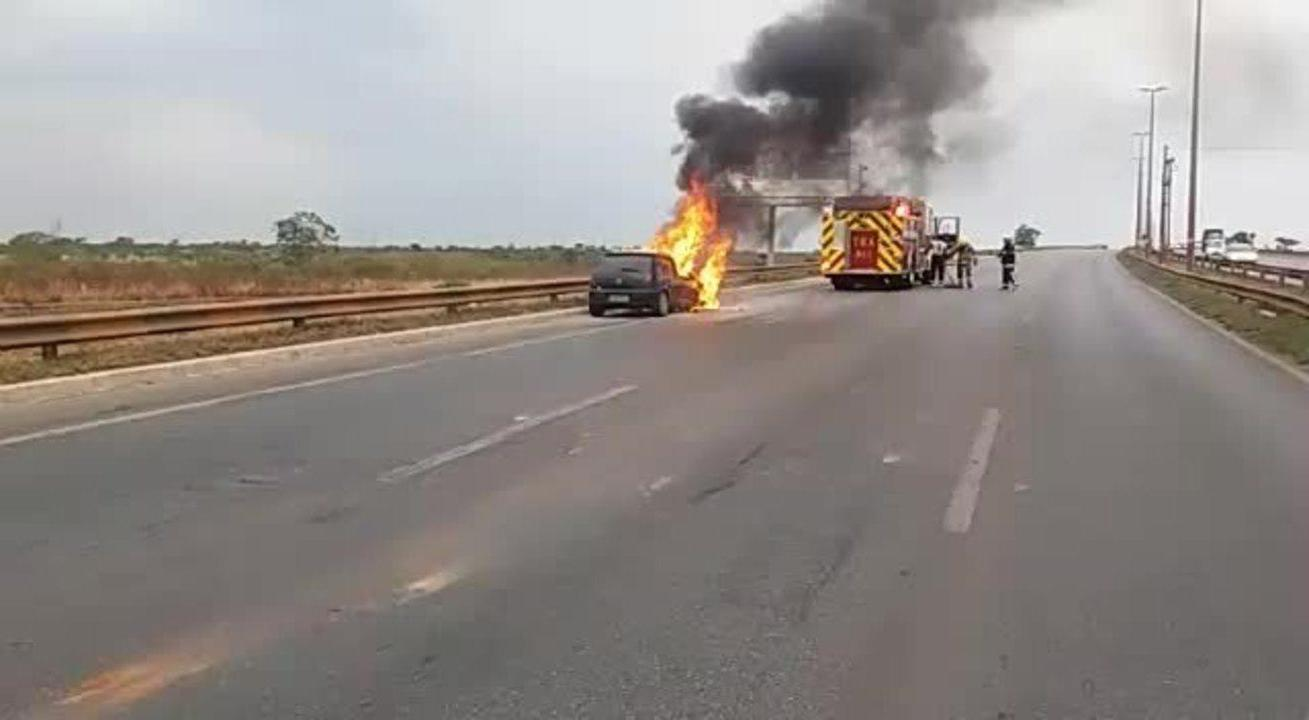Fire: (646, 191, 737, 318)
